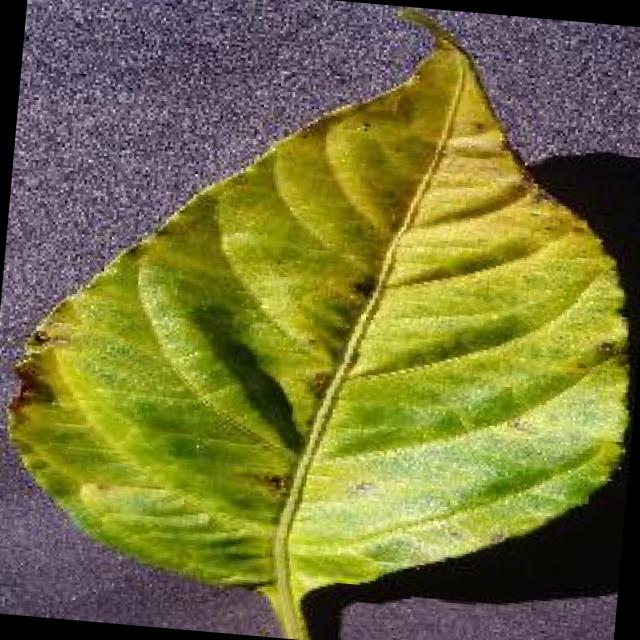Chilli_Bacterial_Spot: (0, 0, 640, 640), (344, 270, 380, 305), (303, 364, 336, 401), (256, 465, 290, 498), (590, 334, 622, 364), (344, 472, 376, 500), (24, 322, 51, 349)
